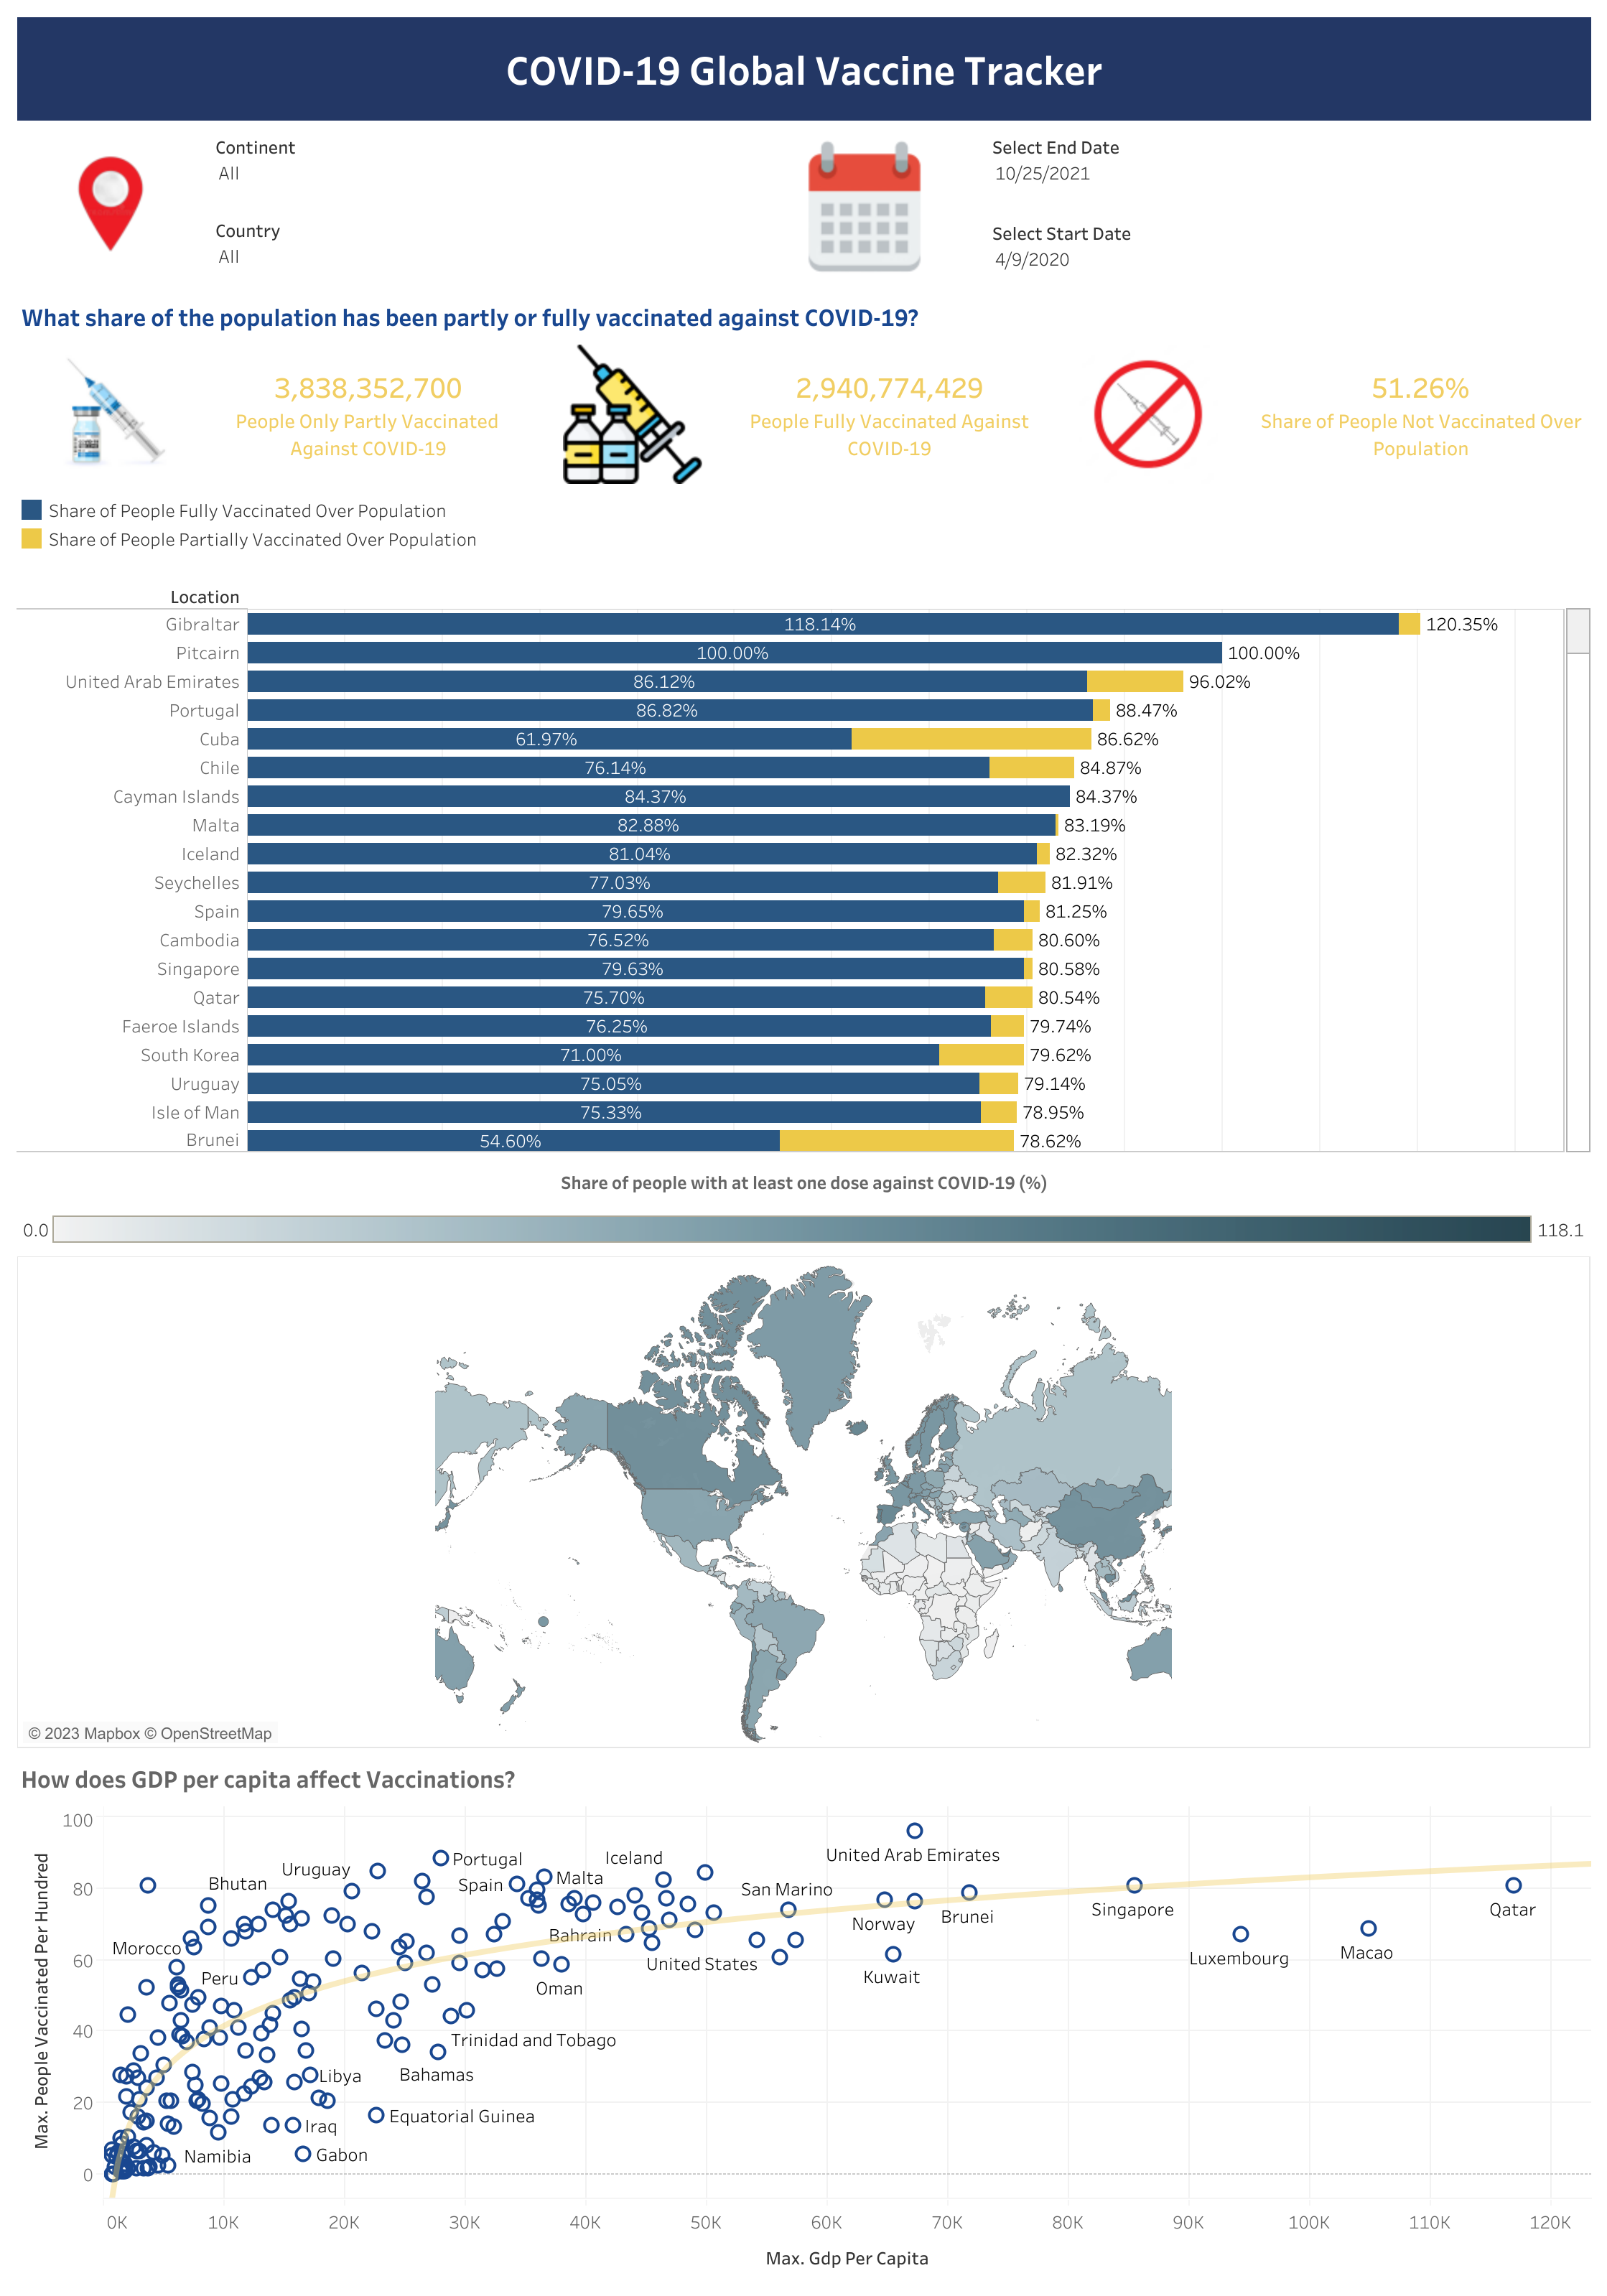

The dashboard page shown, as its layout file describes it:
{"tool":"tableau","page":{"name":"Global Vaccine Tracker","canvas":[1120,1600],"ordinal":0},"visuals":[{"type":"text","box":[8,8,1104,80]},{"type":"image","param":"/Users/waizinlinn/Documents/My Tableau Repository/Shapes/Location/location.png","box":[8,88,138,116]},{"type":"filter","title":"Vaccination Per Hundred - Map","param":"[federated.0edxekx1xfsynz1cetyly0g2bjz0].[none:Continent:nk]","box":[146,88,372,58]},{"type":"image","param":"/Users/waizinlinn/Documents/My Tableau Repository/Shapes/Calander/calander.png","box":[518,88,169,116]},{"type":"parameter","param":"[Parameters].[Select Start Date (copy)_4289537944457228291]","box":[687,88,425,60]},{"type":"filter","title":"Vaccination Per Hundred - Map","param":"[federated.0edxekx1xfsynz1cetyly0g2bjz0].[none:Location (copy):nk]","box":[146,146,372,58]},{"type":"parameter","param":"[Parameters].[Parameter 1]","box":[687,148,425,52]},{"type":"text","box":[8,204,1104,32]},{"type":"image","param":"/Users/waizinlinn/Downloads/istockphoto-[number redacted]-612x612.jpg","box":[8,236,132,105]},{"type":"worksheet","title":"KPI 1 - People Partially Vaccinated","mark":"Automatic","box":[140,236,233,105]},{"type":"image","param":"/Users/waizinlinn/Downloads/vaccines.png","box":[373,236,135,105]},{"type":"worksheet","title":"KPI 2 - People Fully Vaccinated","mark":"Automatic","box":[508,236,238,105]},{"type":"image","param":"/Users/waizinlinn/Downloads/coronavirus-flu-vaccine-syringe-cartoon-colorful-vec","box":[746,236,119,105]},{"type":"worksheet","title":"KPI 3 - Share of People Not Vaccinated Over Population","mark":"Automatic","box":[865,236,247,105]},{"type":"legend","title":"Vcc Vs Fully Vacc Location","param":"[federated.0edxekx1xfsynz1cetyly0g2bjz0].[:Measure Names]","box":[8,341,1104,48]},{"type":"worksheet","title":"Vcc Vs Fully Vacc Location","mark":"Bar","rows":["Location"],"cols":["Calculation_4289537944437825536","Share of People Partially Vaccinated Over Population (copy)_"],"box":[8,400,1104,407]},{"type":"text","box":[8,807,1104,32]},{"type":"legend","title":"Vaccination Per Hundred - Map","param":"[federated.0edxekx1xfsynz1cetyly0g2bjz0].[max:People Fully Vaccinated Per Hundre","box":[8,839,1104,32]},{"type":"worksheet","title":"Vaccination Per Hundred - Map","mark":"Automatic","box":[8,871,1104,351]},{"type":"text","box":[8,1222,1104,32]},{"type":"worksheet","title":"vaccinated over GDP","mark":"Automatic","rows":["People Vaccinated Per Hundred"],"cols":["Gdp Per Capita"],"box":[8,1254,1104,338]}]}

Visuals, with their boxes in screenshot pixels (x1, y1, x2, y2), scaled from the page's 1120x1600 canvas onto the 1607x2296 screenshot:
text: region(11, 11, 1596, 126)
image: region(11, 126, 210, 293)
"Vaccination Per Hundred - Map" filter: region(210, 126, 743, 210)
image: region(743, 126, 986, 293)
parameter: region(986, 126, 1596, 213)
"Vaccination Per Hundred - Map" filter: region(210, 210, 743, 293)
parameter: region(986, 213, 1596, 287)
text: region(11, 293, 1596, 339)
image: region(11, 339, 201, 490)
"KPI 1 - People Partially Vaccinated" worksheet: region(201, 339, 535, 490)
image: region(535, 339, 729, 490)
"KPI 2 - People Fully Vaccinated" worksheet: region(729, 339, 1071, 490)
image: region(1071, 339, 1241, 490)
"KPI 3 - Share of People Not Vaccinated Over Population" worksheet: region(1241, 339, 1596, 490)
"Vcc Vs Fully Vacc Location" legend: region(11, 490, 1596, 559)
"Vcc Vs Fully Vacc Location" worksheet (Bar marks): region(11, 574, 1596, 1158)
text: region(11, 1158, 1596, 1204)
"Vaccination Per Hundred - Map" legend: region(11, 1204, 1596, 1250)
"Vaccination Per Hundred - Map" worksheet: region(11, 1250, 1596, 1753)
text: region(11, 1753, 1596, 1799)
"vaccinated over GDP" worksheet: region(11, 1799, 1596, 2285)
